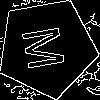M: (22, 22, 75, 72)
